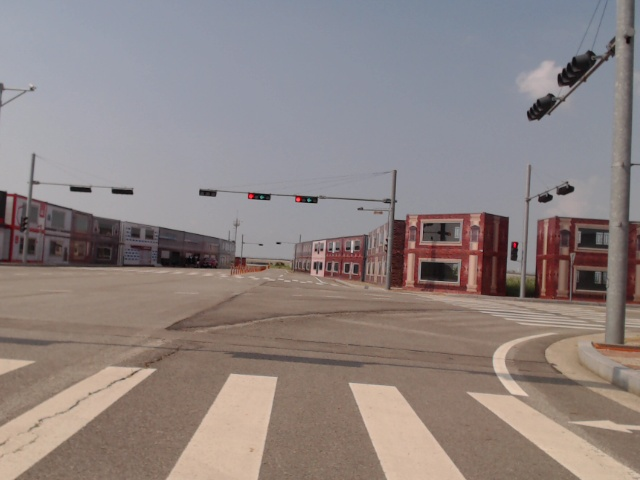left_green_4: (248, 193, 272, 201), (295, 196, 317, 204)
